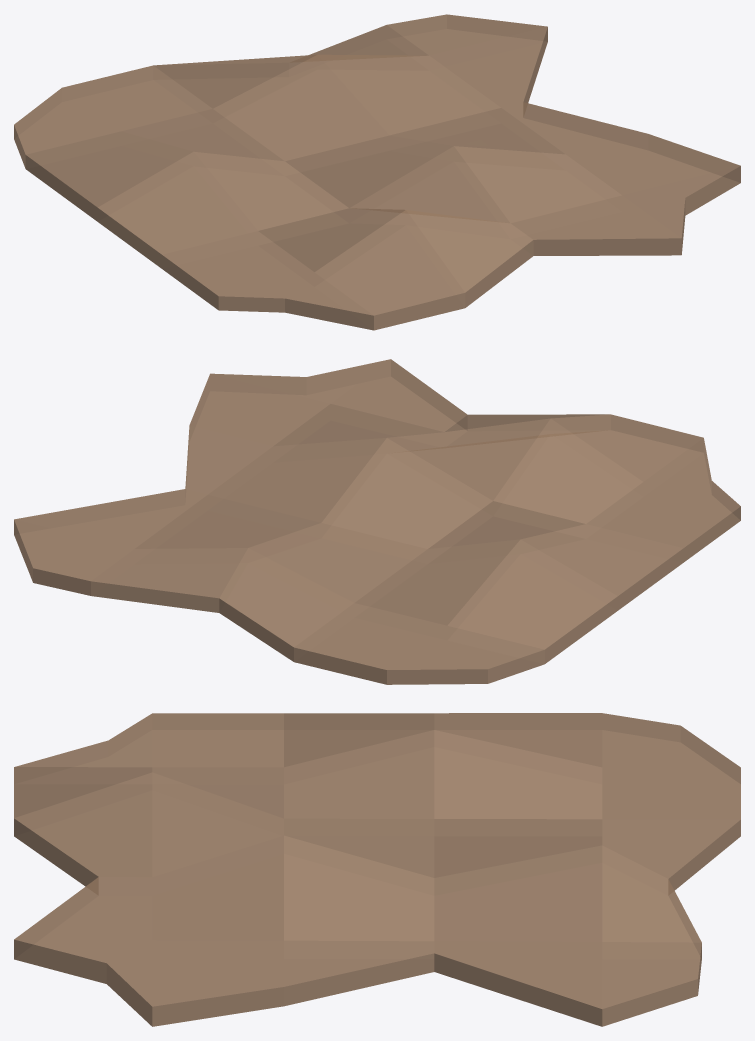
File: Yeast.fbx
The picture shows the model from 3 angles, top to bottom: view 1: azimuth 30°, elevation 25°; view 2: azimuth 150°, elevation 25°; view 3: azimuth 270°, elevation 25°; orthographic projection. The views are drawn at different scales.
Parts seen in each view (by area): view 1: pCube1; view 2: pCube1; view 3: pCube1.
Boxes of the visible parts, x1,y1,x2,y2 form: pCube1: (14, 14, 740, 330); pCube1: (14, 359, 740, 684); pCube1: (14, 713, 740, 1026).
Size of the model in its own units: 1.58 by 0.167 by 1.64.
